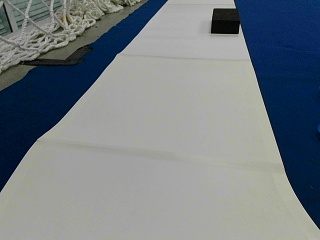block: (211, 8, 240, 34)
